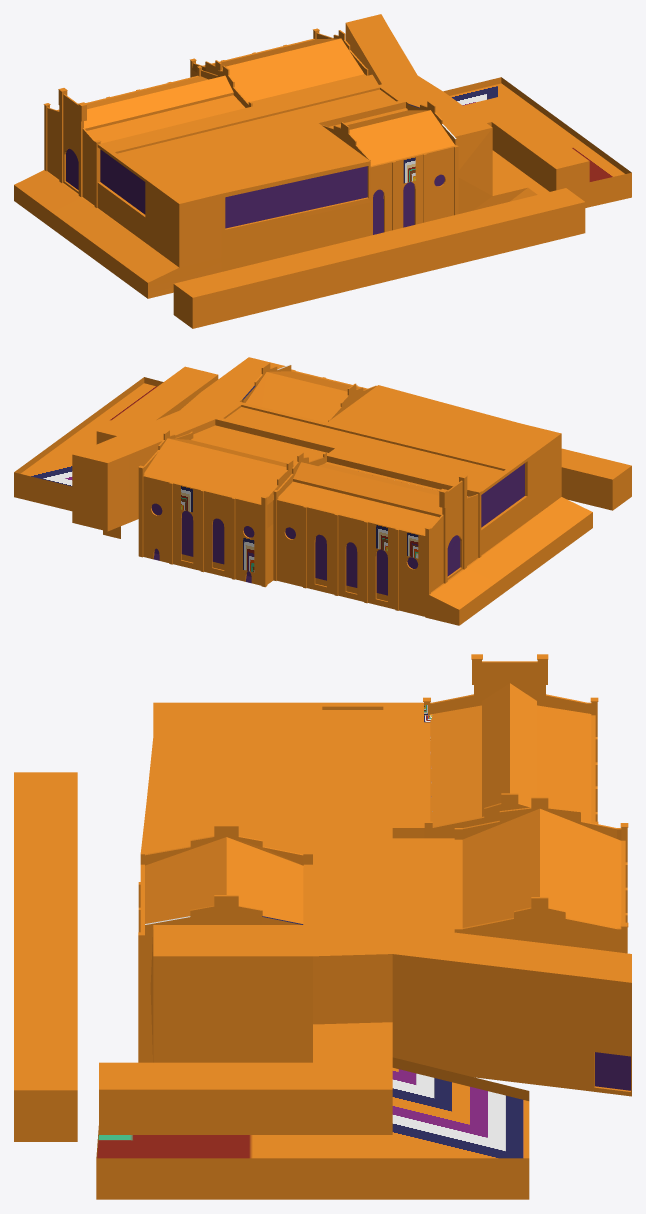
File: Mazowieckie Centrum Sztuki Współczesnej „Elektrownia”.obj
3 views of the same model, one above another, from view 1: azimuth 30°, elevation 25°; view 2: azimuth 150°, elevation 25°; view 3: azimuth 270°, elevation 25° (orthographic). The views are drawn at different scales.
Parts seen in each view (by area): view 1: Cube; view 2: Cube; view 3: Cube.
Part boxes in pixels (<box>): Cube: <box>14,14,631,328</box>; Cube: <box>14,357,631,625</box>; Cube: <box>14,654,631,1199</box>.
Size of the model in its own units: 55.14 by 13.02 by 38.1.
